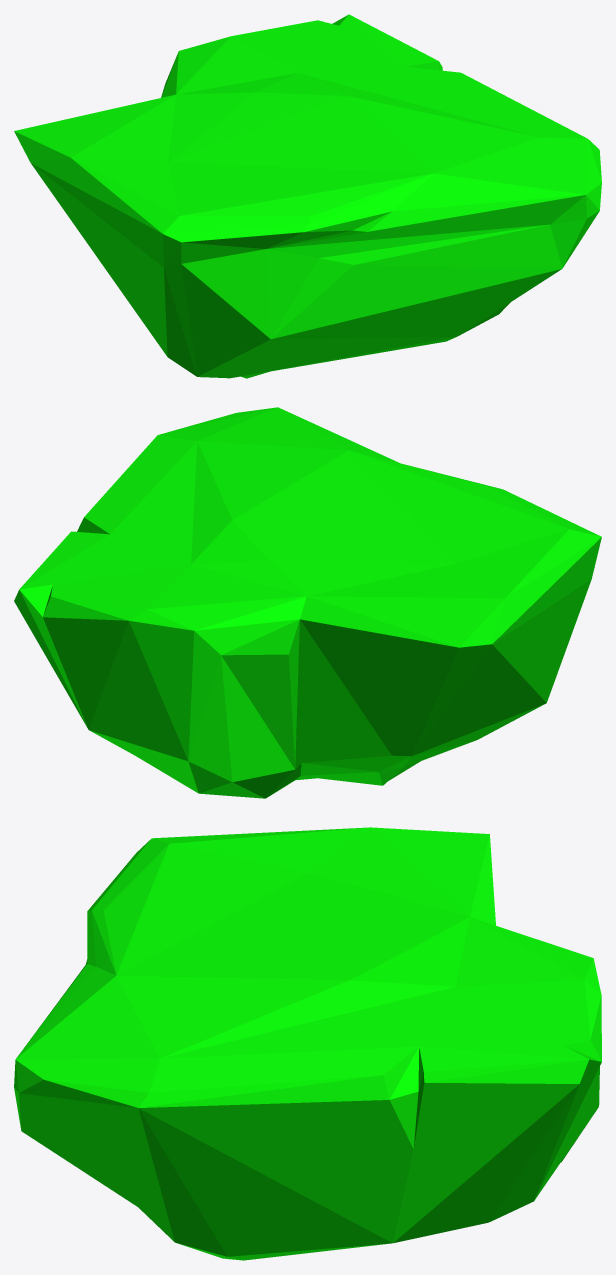
Rendered from SM_Iceberg_Small_A_Rock.fbx.
The picture shows the model from 3 angles, top to bottom: view 1: azimuth 30°, elevation 25°; view 2: azimuth 150°, elevation 25°; view 3: azimuth 270°, elevation 25°; orthographic projection. The views are drawn at different scales.
Visible parts, largest first — view 1: SM_Iceberg_Small_A_Rock; view 2: SM_Iceberg_Small_A_Rock; view 3: SM_Iceberg_Small_A_Rock.
Boxes of the visible parts, x1=… form: SM_Iceberg_Small_A_Rock: x1=14, y1=14, x2=601, y2=378; SM_Iceberg_Small_A_Rock: x1=14, y1=407, x2=601, y2=798; SM_Iceberg_Small_A_Rock: x1=14, y1=827, x2=601, y2=1260.
Bounding box in the file's own units: 3.54 × 1.82 × 3.41.
